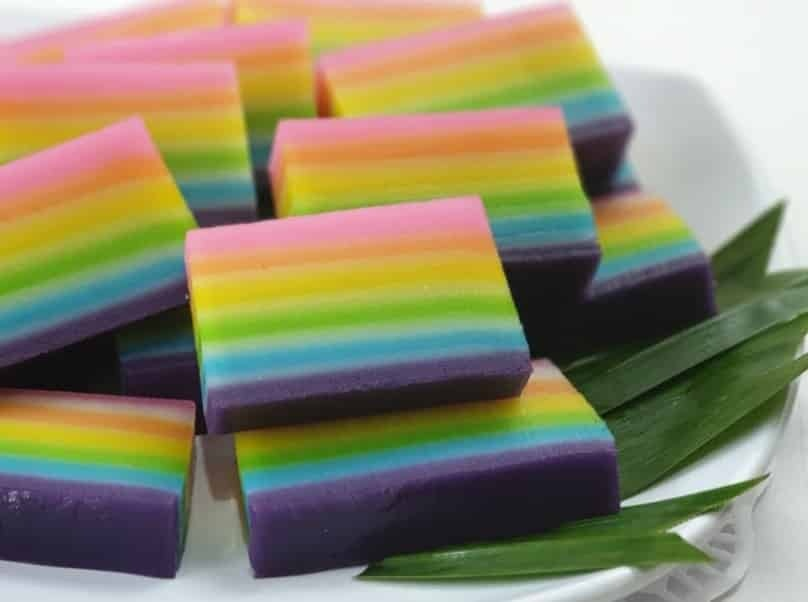kue_lapis_pelangi: (185, 193, 532, 434)
